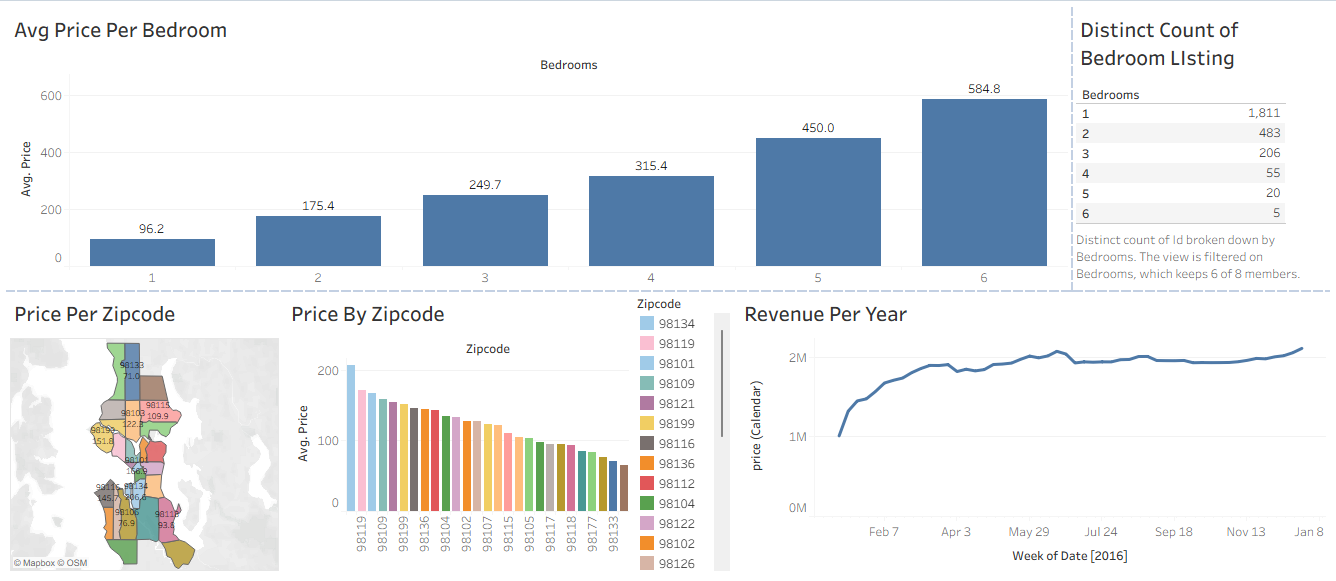

What the dashboard file says about the page in this screenshot:
{"tool":"tableau","page":{"name":"Dashboard 1","canvas":[1000,1000],"units":"permille","ordinal":0},"visuals":[{"type":"worksheet","title":"Sheet 4","mark":"Automatic","rows":["price"],"cols":["bedrooms"],"box":[6.9,13.7,793.9,486.3]},{"type":"worksheet","title":"Sheet 5","mark":"Automatic","rows":["bedrooms"],"box":[800.9,13.7,192.2,486.3]},{"type":"worksheet","title":"Sheet 2","mark":"Multipolygon","box":[6.9,500,206.1,486.3]},{"type":"worksheet","title":"Sheet 1","mark":"Automatic","rows":["price"],"cols":["zipcode"],"box":[213,500,260.6,486.3]},{"type":"legend","title":"Sheet 1","param":"[federated.0ilfotn1qux99510utl7e0kukpn2].[none:zipcode:ok]","box":[473.6,500,77.1,486.3]},{"type":"worksheet","title":"Sheet 3","mark":"Automatic","rows":["price (Calendar)"],"cols":["date"],"box":[550.6,500,442.4,486.3]}]}

Visuals, with their boxes on the dashboard's canvas, which has no fixed pixel size, in thousandths of its width and height (x1, y1, x2, y2). These are canvas units, not pixel positions in the 1336x581 screenshot, which may show the page scaled, cropped or inside an application window:
"Sheet 4" worksheet: region(7, 14, 801, 500)
"Sheet 5" worksheet: region(801, 14, 993, 500)
"Sheet 2" worksheet (Multipolygon marks): region(7, 500, 213, 986)
"Sheet 1" worksheet: region(213, 500, 474, 986)
"Sheet 1" legend: region(474, 500, 551, 986)
"Sheet 3" worksheet: region(551, 500, 993, 986)
